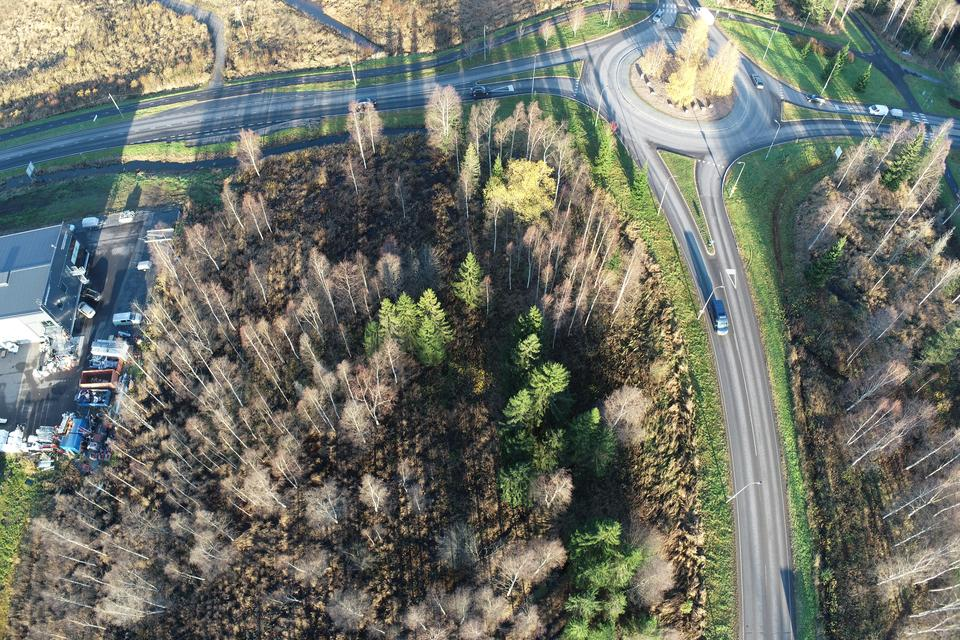intersection: (184, 56, 242, 146), (631, 0, 729, 17)
roundabout: (560, 21, 810, 207)
